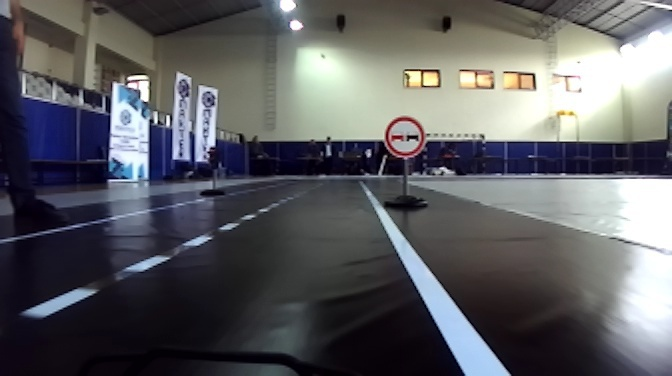sollama_yasak: (384, 117, 424, 159)
